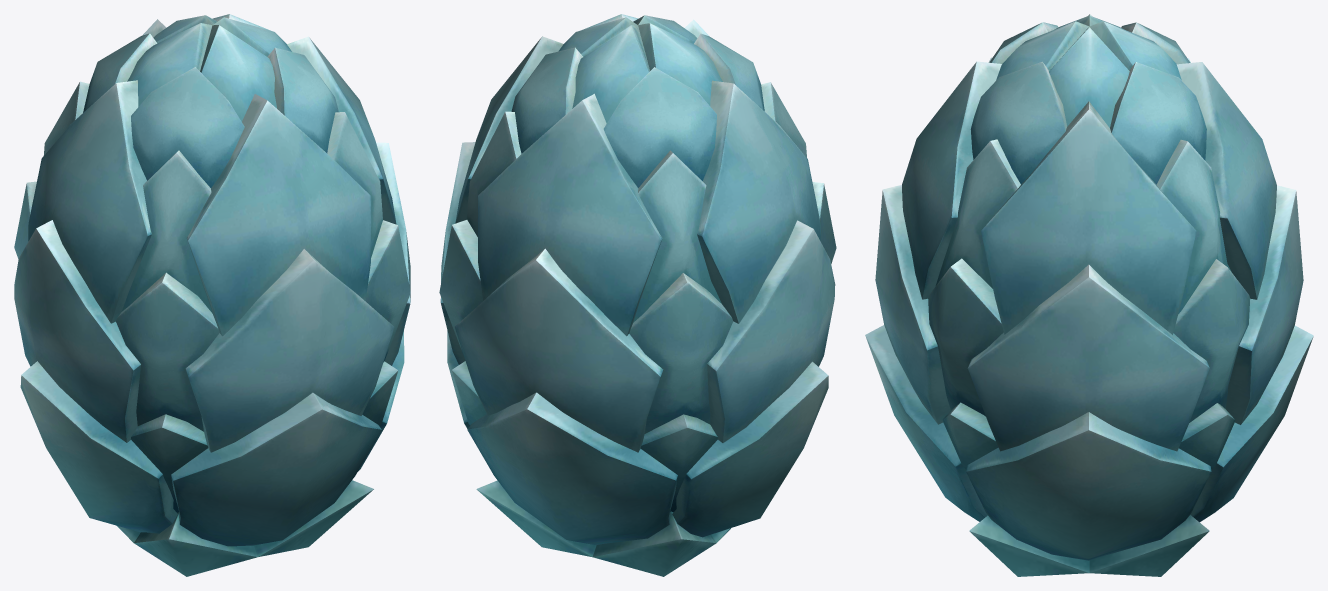
File: p_egg_1.fbx
The picture shows the model from 3 angles, left to right: view 1: azimuth 30°, elevation 25°; view 2: azimuth 150°, elevation 25°; view 3: azimuth 270°, elevation 25°; orthographic projection.
Parts seen in each view (by area): view 1: egg; view 2: egg; view 3: egg.
Boxes of the visible parts, bbox=[...] form: egg: bbox=[14, 14, 410, 576]; egg: bbox=[439, 14, 836, 576]; egg: bbox=[865, 14, 1313, 576].
Bounding box in the file's own units: 1.03 × 1.39 × 1.03.
Materials: 1 (1 with a texture image).
